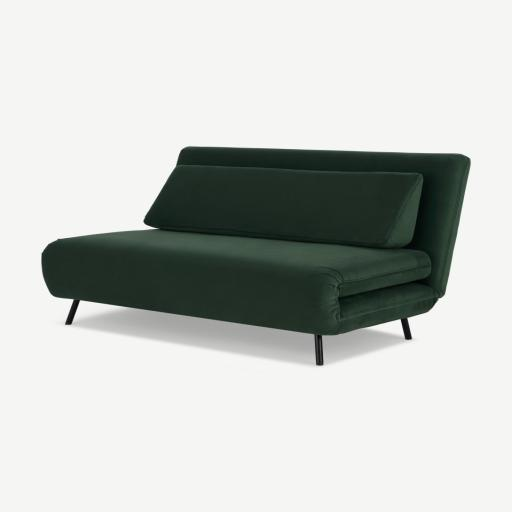back_cushion: (154, 150, 419, 259)
legs: (73, 309, 85, 335), (314, 358, 322, 390), (400, 328, 408, 347)
one-seater: (42, 123, 470, 389)
seat_cushion: (43, 225, 437, 358)
